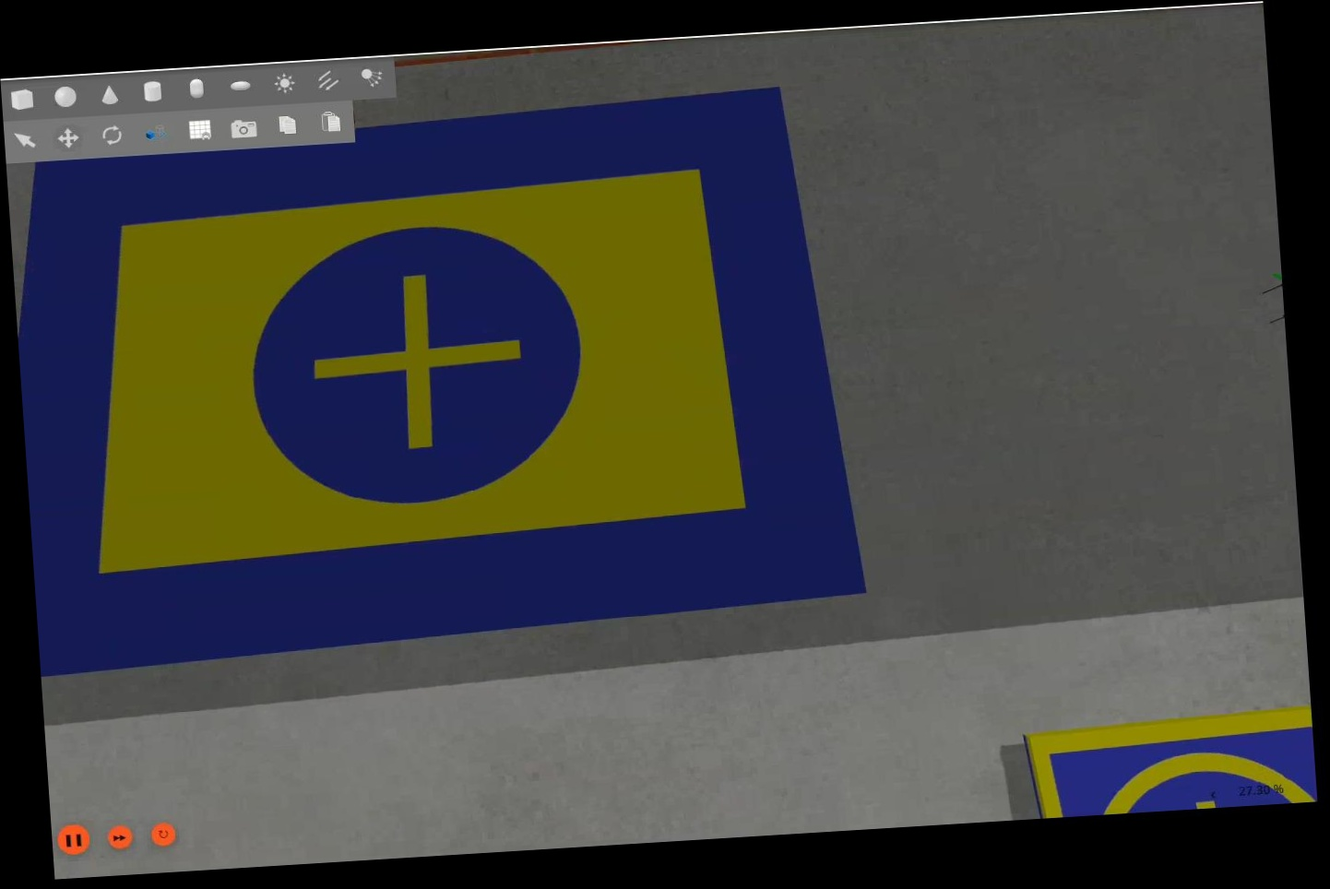large_base: (4, 83, 873, 678)
small_base: (1022, 708, 1319, 821)
